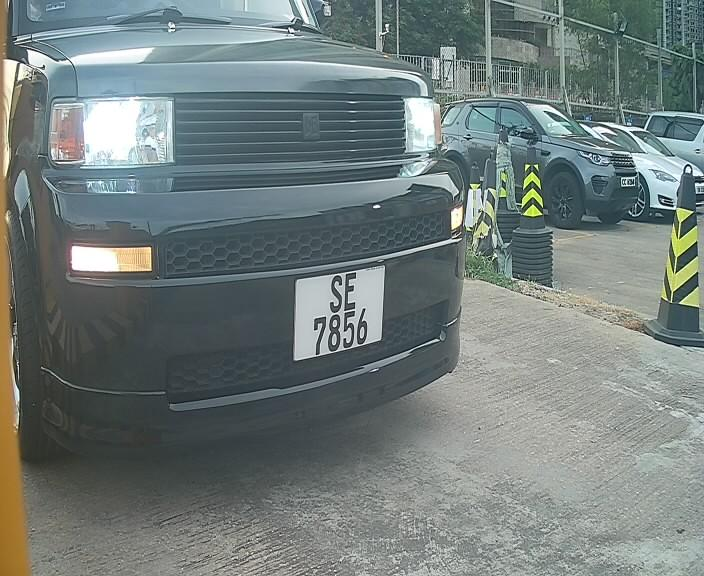License Plate: (287, 263, 393, 373)
